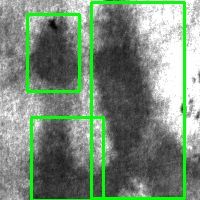patches: (91, 2, 184, 198), (31, 117, 103, 200), (27, 14, 79, 91)
